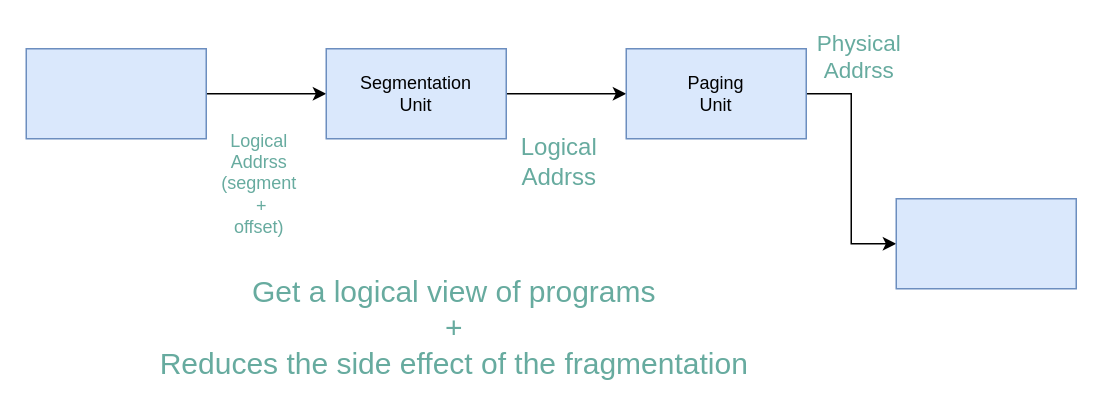
This 1103x405 diagram has some shape labels left out. Each missing label, with the centre of its shape:
"Physical Memory" goes at pixel 985 243.
"Processor" goes at pixel 115 93.
